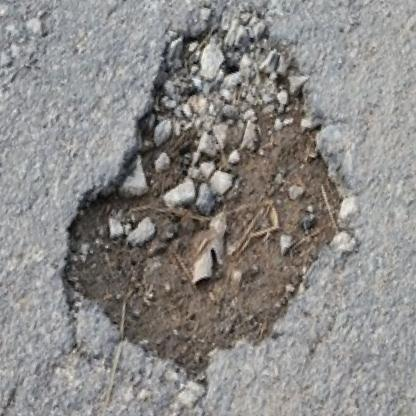pothole: (38, 0, 391, 409)
